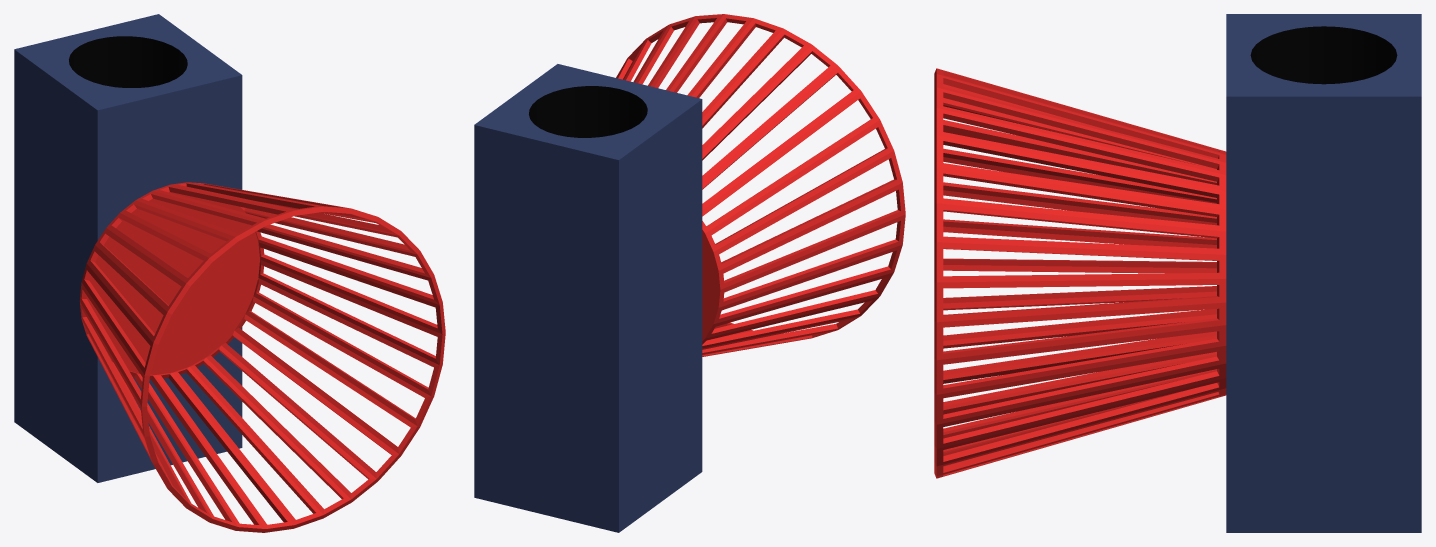
Rendered from Tennis machine.fbx.
3 views of the same model, side by side, from view 1: azimuth 30°, elevation 25°; view 2: azimuth 150°, elevation 25°; view 3: azimuth 270°, elevation 25° (orthographic). The views are drawn at different scales.
Parts seen in each view (by area): view 1: Cube; view 2: Cube; view 3: Cube.
Boxes of the visible parts, x1,y1,x2,y2 form: Cube: [14, 14, 445, 532]; Cube: [474, 14, 905, 532]; Cube: [934, 14, 1421, 532].
Size of the model in its own units: 273 by 324 by 320.
